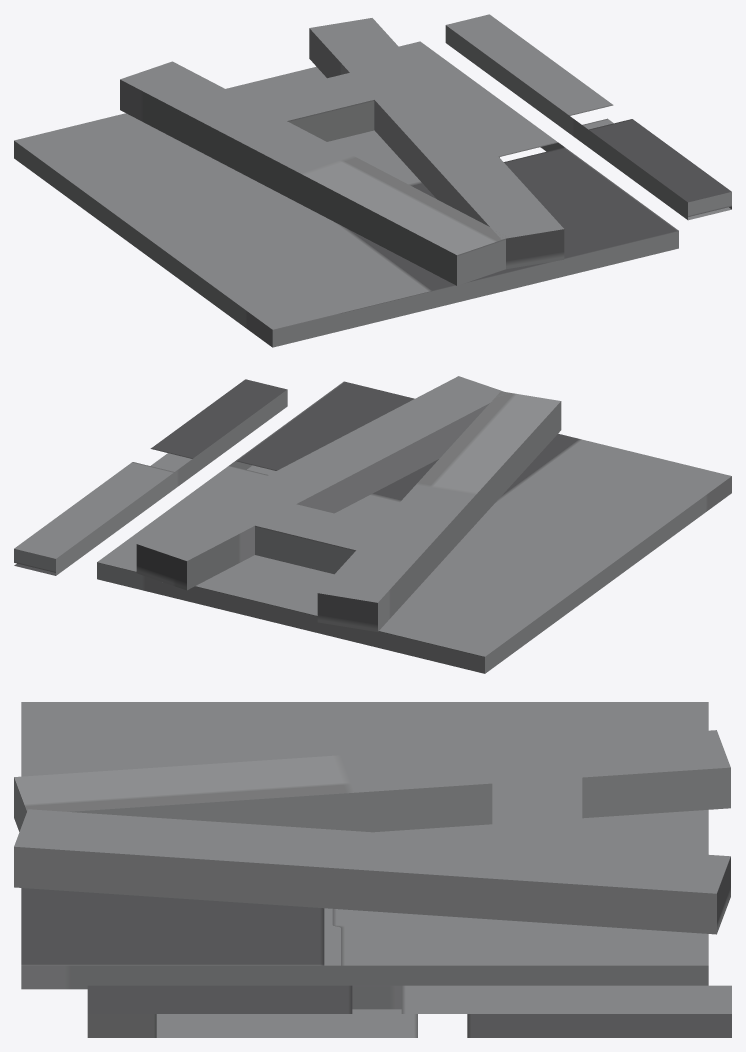
The picture shows the model from 3 angles, top to bottom: view 1: azimuth 30°, elevation 25°; view 2: azimuth 150°, elevation 25°; view 3: azimuth 270°, elevation 25°; orthographic projection. The views are drawn at different scales.
Size of the model in its own units: 0.992 by 0.098 by 0.9585.
